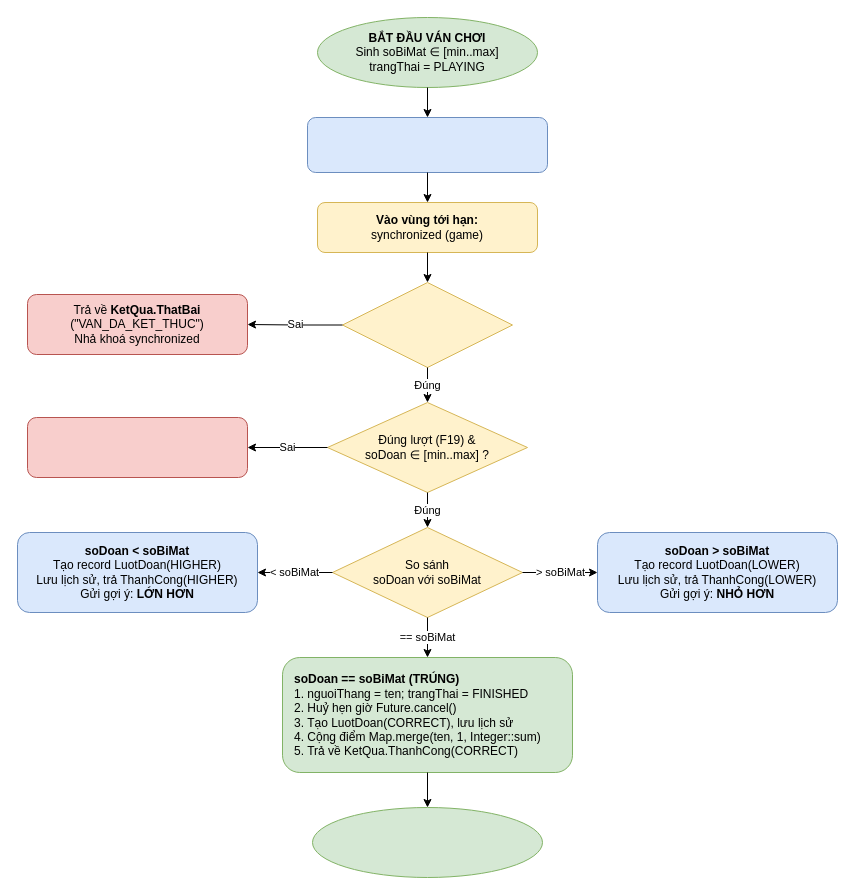
Some shapes in this 855 by 895 pixel diagram are drawn without their labels. Here are the shapes that lost their labels. From the top down, the box of each, then its label:
(306, 116, 548, 172): Nhận yêu cầu GUESS(ten, soDoan) từ luồng ClientHandler
(342, 282, 512, 368): trangThai == PLAYING ?
(26, 416, 248, 478): Trả về KetQua.ThatBai ("LUOT_DOAN_KHONG_HOP_LE") Nhả khoá synchronized
(312, 806, 542, 878): KẾT THÚC VÁN Nhả khoá synchronized Broadcast công bố người thắng
